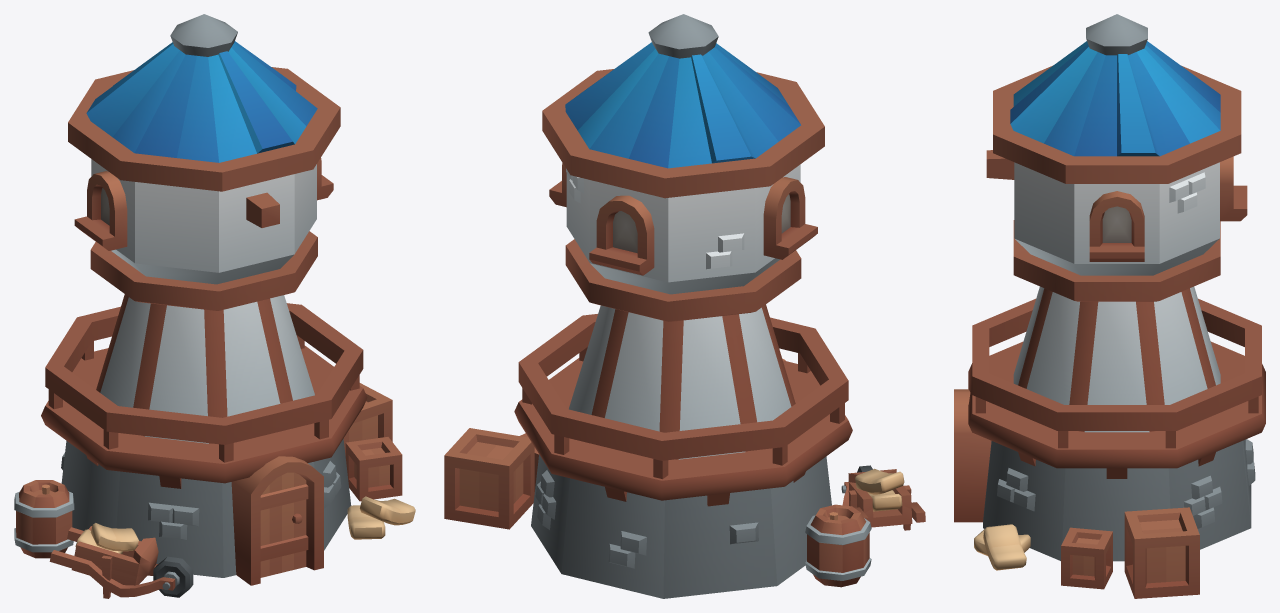
Rendered from windmill.glb.
The picture shows the model from 3 angles, left to right: view 1: azimuth 30°, elevation 25°; view 2: azimuth 150°, elevation 25°; view 3: azimuth 270°, elevation 25°; orthographic projection. The views are drawn at different scales.
Visible parts, largest first — view 1: building_windmill_blue, building_windmill_top_blue; view 2: building_windmill_blue, building_windmill_top_blue; view 3: building_windmill_blue, building_windmill_top_blue.
Part boxes in pixels (x1,y1,x2,y2): building_windmill_blue: [14, 294, 415, 598]; building_windmill_top_blue: [68, 14, 340, 310]; building_windmill_blue: [444, 304, 925, 598]; building_windmill_top_blue: [542, 14, 824, 321]; building_windmill_blue: [954, 286, 1265, 598]; building_windmill_top_blue: [986, 14, 1247, 301].
Bounding box in the file's own units: 1.13 × 1.38 × 0.7939.
Materials: 1 (1 with a texture image).
